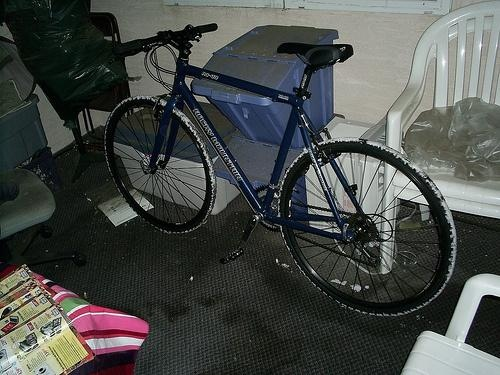bicycle: (106, 22, 460, 319)
chair: (383, 2, 500, 276)
